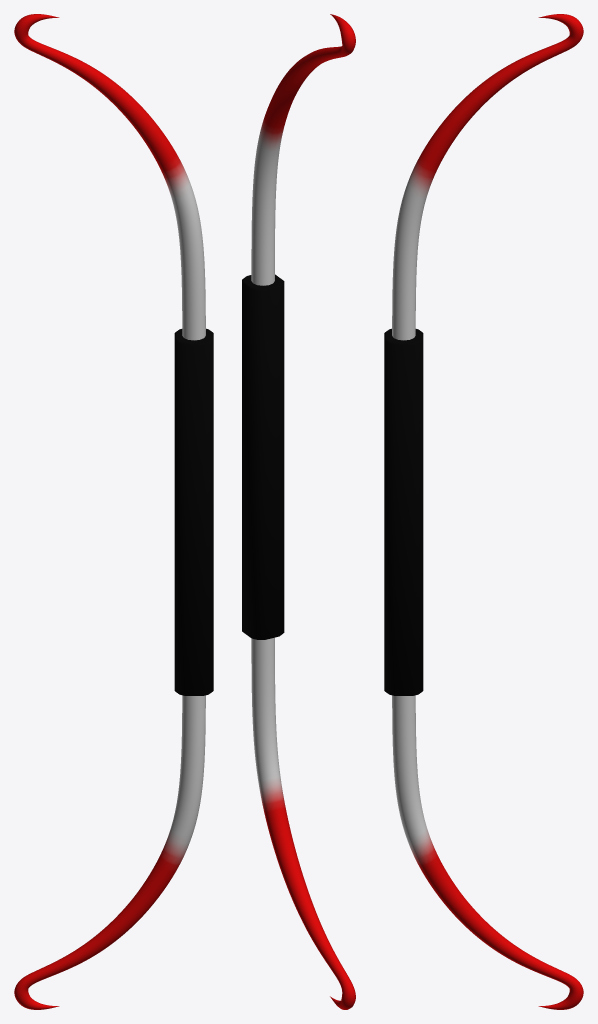
The model's file is bow.fbx.
The picture shows the model from 3 angles, left to right: view 1: azimuth 90°, elevation 25°; view 2: azimuth 210°, elevation 25°; view 3: azimuth 270°, elevation 25°; orthographic projection.
Parts seen in each view (by area): view 1: Cube; view 2: Cube; view 3: Cube.
Part boxes in pixels (bbox=[...]): Cube: bbox=[14, 14, 213, 1009]; Cube: bbox=[242, 14, 355, 1009]; Cube: bbox=[384, 14, 583, 1009].
Bounding box in the file's own units: 40 × 1128 × 205.
